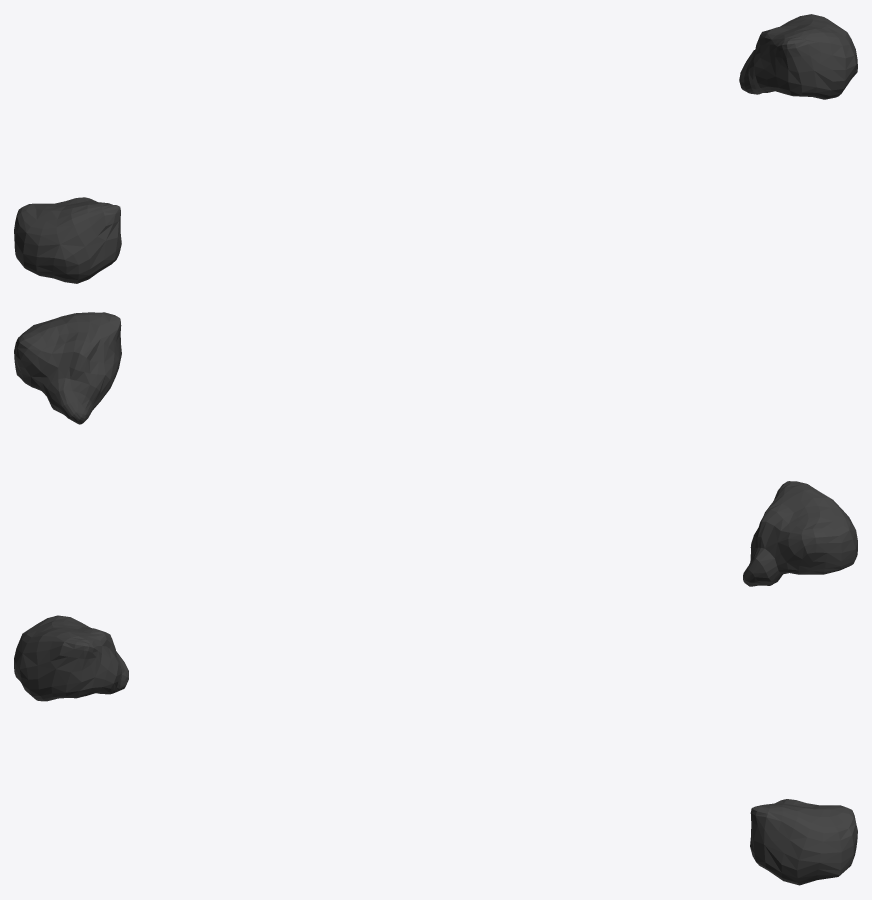
File: Tarsal_central_1.glb
The picture shows the model from 3 angles, top to bottom: view 1: azimuth 30°, elevation 25°; view 2: azimuth 150°, elevation 25°; view 3: azimuth 330°, elevation 25°; orthographic projection.
Visible parts, largest first — view 1: Tarsal_central_1; view 2: Tarsal_central_1; view 3: Tarsal_central_1.
Part boxes in pixels (x1,y1,x2,y2): Tarsal_central_1: [14, 14, 857, 283]; Tarsal_central_1: [14, 312, 857, 586]; Tarsal_central_1: [14, 615, 857, 885].
Bounding box in the file's own units: 0.00483 × 0.000438 × 0.000567.
Materials: 1 (1 with a texture image).
